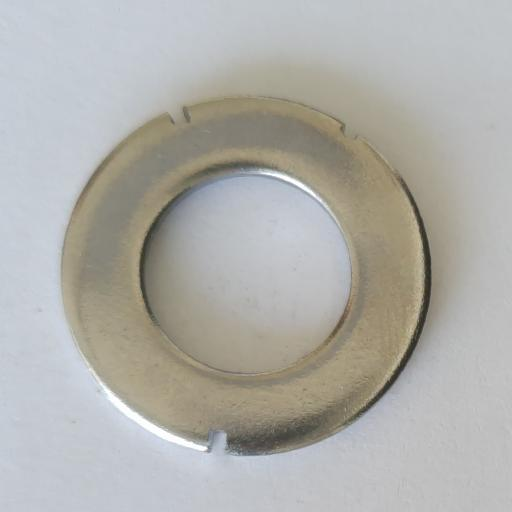burr: (204, 426, 230, 454), (166, 104, 192, 129), (338, 121, 359, 143)
